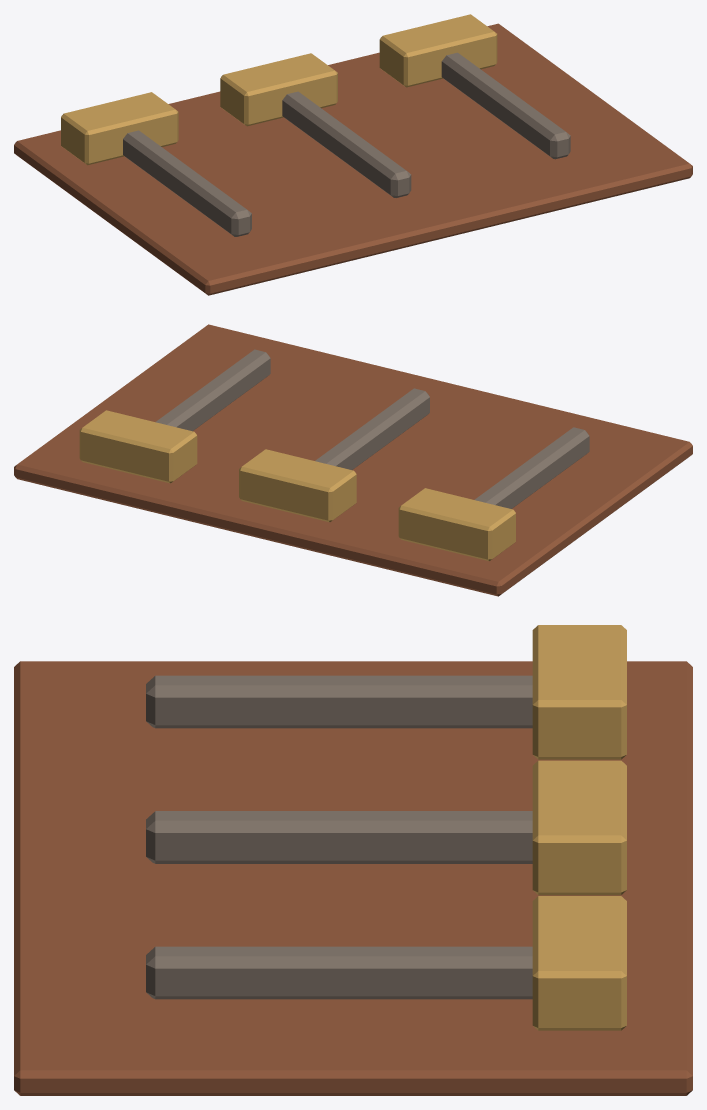
Rendered from residential_accessories_03.glb.
3 views of the same model, one above another, from view 1: azimuth 30°, elevation 25°; view 2: azimuth 150°, elevation 25°; view 3: azimuth 270°, elevation 25° (orthographic). The views are drawn at different scales.
Visible parts, largest first — view 1: ToolMat, ToolHead_002, ToolHead_001, ToolHead, Tool_002, Tool_001, Tool; view 2: ToolMat, ToolHead_002, ToolHead, ToolHead_001, Tool, Tool_002, Tool_001; view 3: ToolMat, Tool, Tool_002, Tool_001, ToolHead_001, ToolHead, ToolHead_002.
Boxes of the visible parts, <box> form: ToolMat: <box>14,23,692,295</box>; ToolHead_002: <box>379,14,497,87</box>; ToolHead_001: <box>220,53,337,126</box>; ToolHead: <box>61,92,178,165</box>; Tool_002: <box>441,52,570,159</box>; Tool_001: <box>282,91,411,197</box>; Tool: <box>123,130,251,236</box>; ToolMat: <box>14,324,692,596</box>; ToolHead_002: <box>79,410,197,483</box>; ToolHead: <box>398,488,515,561</box>; ToolHead_001: <box>239,449,356,522</box>; Tool: <box>474,427,589,508</box>; Tool_002: <box>155,349,270,431</box>; Tool_001: <box>315,388,429,469</box>; ToolMat: <box>14,661,692,1095</box>; Tool: <box>146,675,532,728</box>; Tool_002: <box>146,946,532,999</box>; Tool_001: <box>146,811,532,863</box>; ToolHead_001: <box>532,760,626,895</box>; ToolHead: <box>532,625,626,759</box>; ToolHead_002: <box>532,896,626,1030</box>.
Size of the model in its own units: 0.52 by 0.05 by 0.36.
